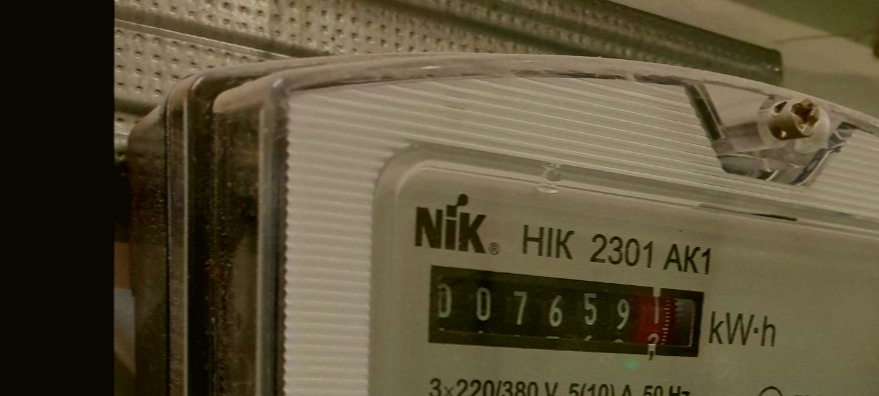0: (471, 280, 495, 321), (432, 277, 455, 318)
1: (648, 292, 665, 325)
5: (580, 287, 600, 325)
6: (545, 288, 566, 327)
7: (510, 285, 529, 325)
9: (614, 293, 631, 330)
screen: (419, 254, 712, 373)
